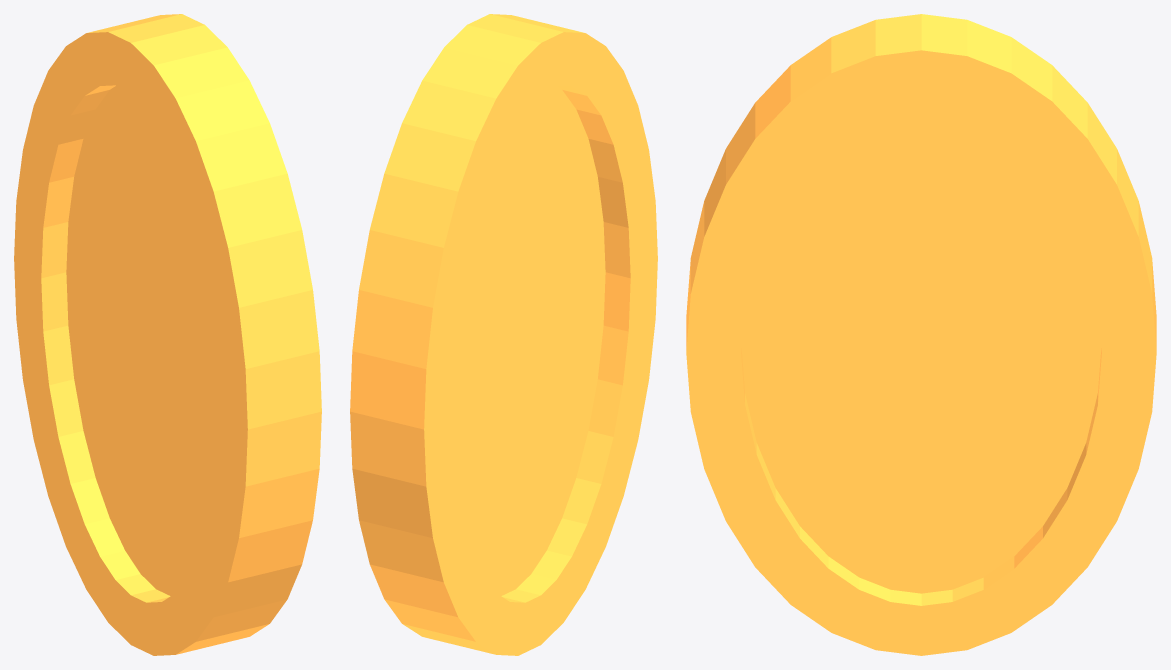
Rendered from coin.glb.
3 renders of one model, left to right at view 1: azimuth 30°, elevation 25°; view 2: azimuth 150°, elevation 25°; view 3: azimuth 270°, elevation 25°, orthographic.
Visible parts, largest first — view 1: Coin; view 2: Coin; view 3: Coin.
Boxes of the visible parts, x1=… form: Coin: x1=14, y1=14, x2=321, y2=655; Coin: x1=350, y1=14, x2=657, y2=655; Coin: x1=686, y1=14, x2=1156, y2=655.
Size of the model in its own units: 0.2575 by 2 by 1.41.
